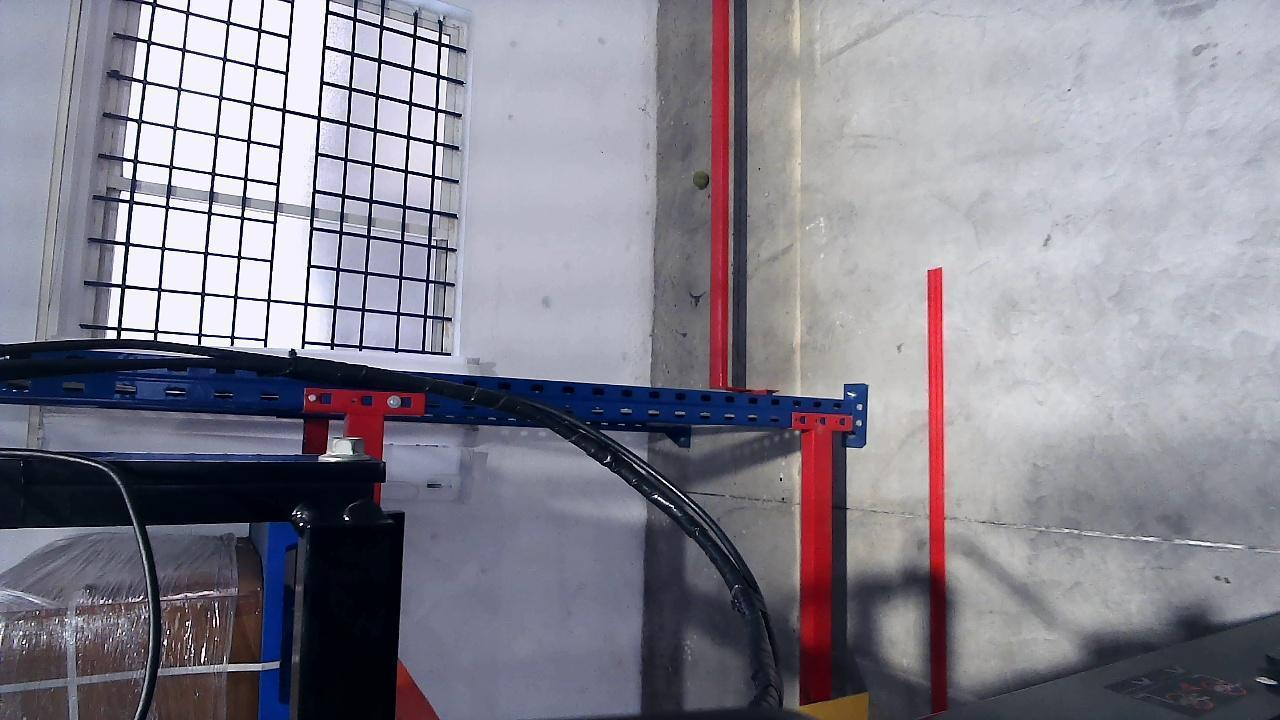red_line: (924, 270, 950, 717)
